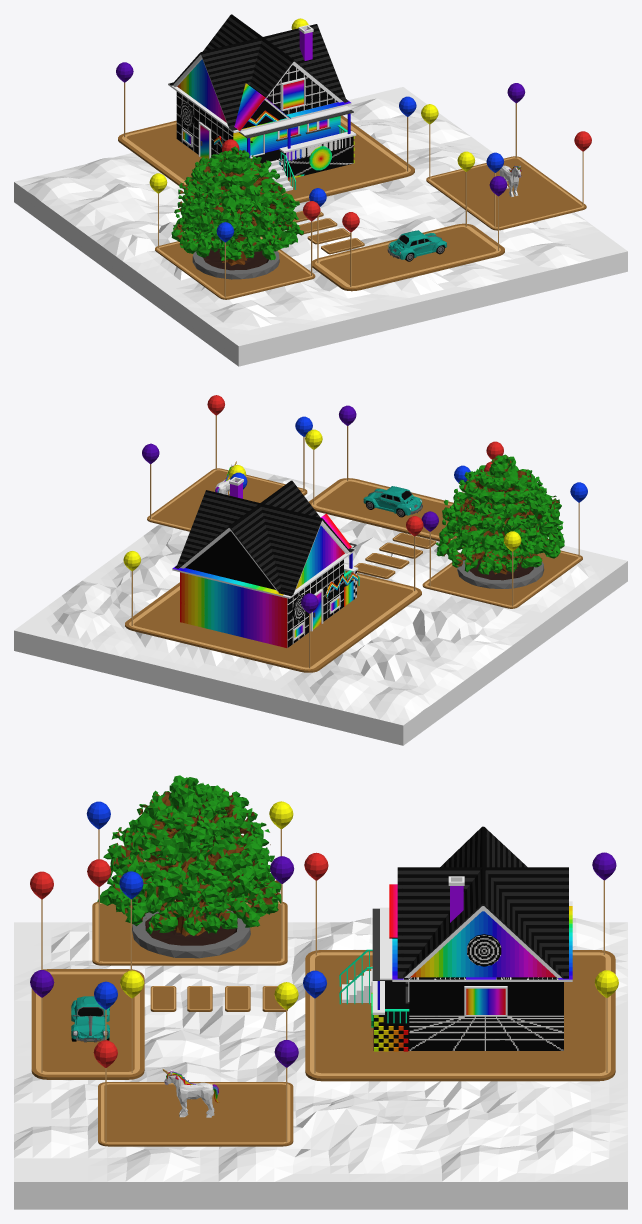
The picture shows the model from 3 angles, top to bottom: view 1: azimuth 30°, elevation 25°; view 2: azimuth 150°, elevation 25°; view 3: azimuth 270°, elevation 25°; orthographic projection. The views are drawn at different scales.
Visible parts, largest first — view 1: Cube.013, Cube.1320, OBJRANDOM_CEIBA, VEHICLES_VOLKSWAGEN; view 2: Cube.013, Cube.1320, OBJRANDOM_CEIBA, VEHICLES_VOLKSWAGEN; view 3: Cube.013, Cube.1320, OBJRANDOM_CEIBA, VEHICLES_VOLKSWAGEN, ANIMAL_UNICORNIO.
Boxes of the visible parts, x1,y1,x2,y2 form: Cube.013: (14, 18, 627, 366); Cube.1320: (168, 14, 356, 191); OBJRANDOM_CEIBA: (171, 146, 303, 279); VEHICLES_VOLKSWAGEN: (387, 230, 447, 261); Cube.013: (14, 395, 627, 745); Cube.1320: (172, 477, 359, 648); OBJRANDOM_CEIBA: (435, 454, 564, 588); VEHICLES_VOLKSWAGEN: (363, 486, 422, 517); Cube.013: (14, 801, 627, 1209); Cube.1320: (339, 826, 572, 1051); OBJRANDOM_CEIBA: (97, 775, 281, 958); VEHICLES_VOLKSWAGEN: (71, 996, 109, 1042); ANIMAL_UNICORNIO: (162, 1069, 218, 1117).
Bounding box in the file's own units: 4000 × 1688 × 4000.
Materials: 42 (3 with a texture image).
